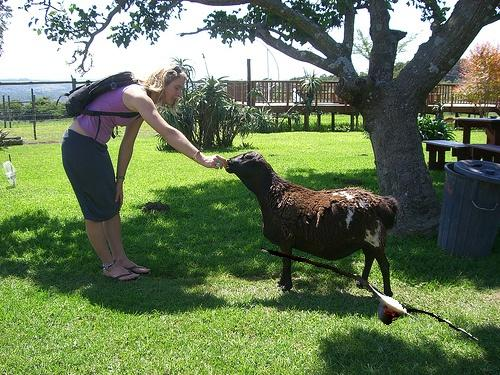tampered: (261, 249, 478, 341)
